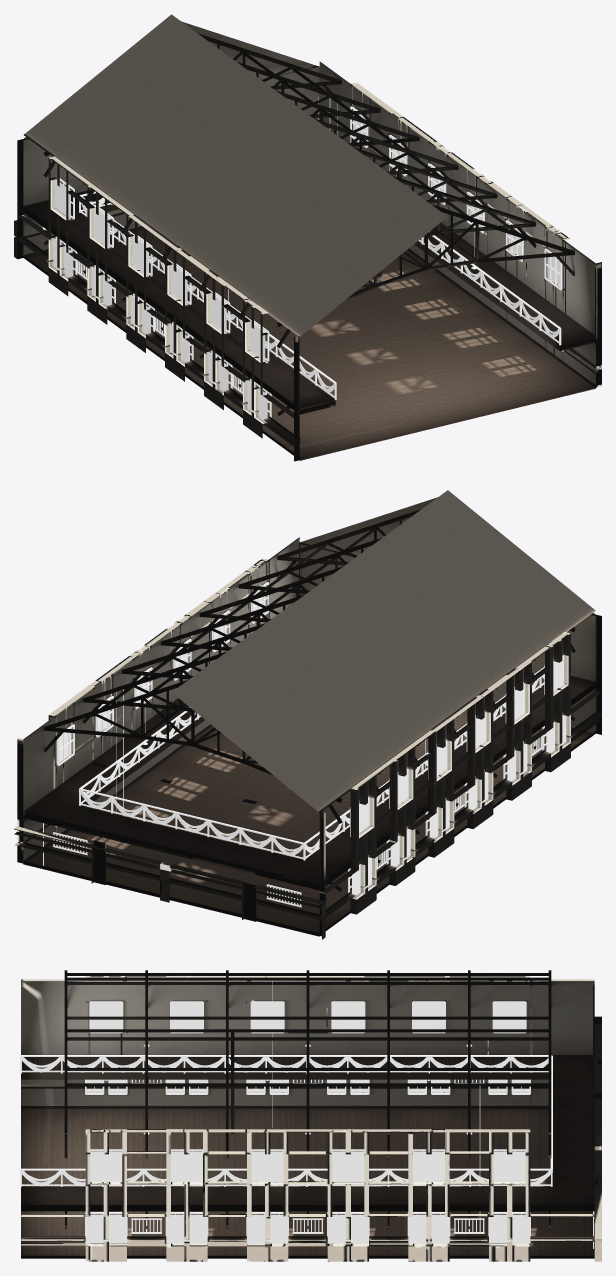
The model's file is naismith-robinson-gym.glb.
3 views of the same model, one above another, from view 1: azimuth 30°, elevation 25°; view 2: azimuth 150°, elevation 25°; view 3: azimuth 270°, elevation 25° (orthographic). The views are drawn at different scales.
Visible parts, largest first — view 1: roof_boards, floor, wall_east_upper, track_deck, wall_west_upper, wall_west_lower, wall_north_upper, roof_truss_1, wall_east_lower, trim_bands, roof_struts, gable_north (+10 smaller); view 2: roof_boards, floor, wall_west_upper, track_deck, wall_east_upper, wall_west_lower, wall_south_unphotographed, trim_bands, wall_north_upper, roof_truss_7, roof_struts, gable_south_unphotographed (+14 smaller); view 3: floor, wall_west_upper, track_deck, roof_struts, wall_east_upper, wall_west_lower, wall_east_lower, trim_bands, artifact_track_rail_west, artifact_track_rail_east, wall_north_upper, drapery_white_west (+35 smaller).
Boxes of the visible parts, x1=… form: roof_boards: x1=24, y1=14, x2=447, y2=336; floor: x1=27, y1=229, x2=595, y2=460; wall_east_upper: x1=319, y1=61, x2=601, y2=366; track_deck: x1=23, y1=190, x2=595, y2=414; wall_west_upper: x1=18, y1=156, x2=299, y2=440; wall_west_lower: x1=18, y1=238, x2=299, y2=461; wall_north_upper: x1=14, y1=66, x2=319, y2=237; roof_truss_1: x1=277, y1=204, x2=574, y2=347; wall_east_lower: x1=409, y1=244, x2=601, y2=387; trim_bands: x1=23, y1=212, x2=595, y2=459; roof_struts: x1=243, y1=52, x2=527, y2=284; gable_north: x1=24, y1=21, x2=318, y2=138; roof_boards: x1=171, y1=490, x2=595, y2=812; floor: x1=23, y1=704, x2=592, y2=936; wall_west_upper: x1=319, y1=632, x2=601, y2=914; track_deck: x1=23, y1=676, x2=595, y2=890; wall_east_upper: x1=17, y1=537, x2=299, y2=842; wall_west_lower: x1=319, y1=714, x2=601, y2=936; wall_south_unphotographed: x1=299, y1=542, x2=601, y2=734; trim_bands: x1=23, y1=712, x2=595, y2=935; wall_north_upper: x1=14, y1=762, x2=325, y2=918; roof_truss_7: x1=44, y1=680, x2=342, y2=823; roof_struts: x1=92, y1=528, x2=375, y2=760; gable_south_unphotographed: x1=300, y1=497, x2=595, y2=614; floor: x1=21, y1=1108, x2=594, y2=1255; wall_west_upper: x1=21, y1=976, x2=594, y2=1086; track_deck: x1=21, y1=1055, x2=594, y2=1211; roof_struts: x1=67, y1=973, x2=548, y2=1086; wall_east_upper: x1=21, y1=1129, x2=594, y2=1239; wall_west_lower: x1=21, y1=1088, x2=548, y2=1105; wall_east_lower: x1=21, y1=1238, x2=594, y2=1261; trim_bands: x1=21, y1=1086, x2=594, y2=1258; artifact_track_rail_west: x1=20, y1=1055, x2=551, y2=1073; artifact_track_rail_east: x1=20, y1=1168, x2=552, y2=1186; wall_north_upper: x1=594, y1=1016, x2=601, y2=1239; drapery_white_west: x1=20, y1=1057, x2=548, y2=1072.
Bounding box in the file's own units: 20.6 × 13.3 × 32.8.
Materials: 6 (5 with a texture image).
